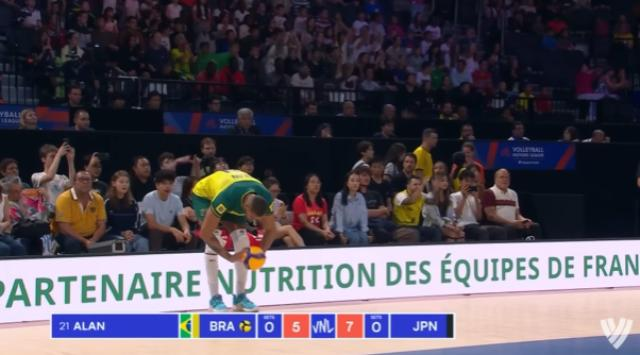bola: (242, 245, 266, 271)
